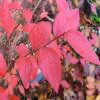Blueberry leaf: (64, 30, 99, 65), (37, 47, 61, 95), (53, 7, 80, 40), (16, 57, 34, 91), (32, 19, 52, 49), (0, 0, 11, 38), (18, 40, 30, 58)
